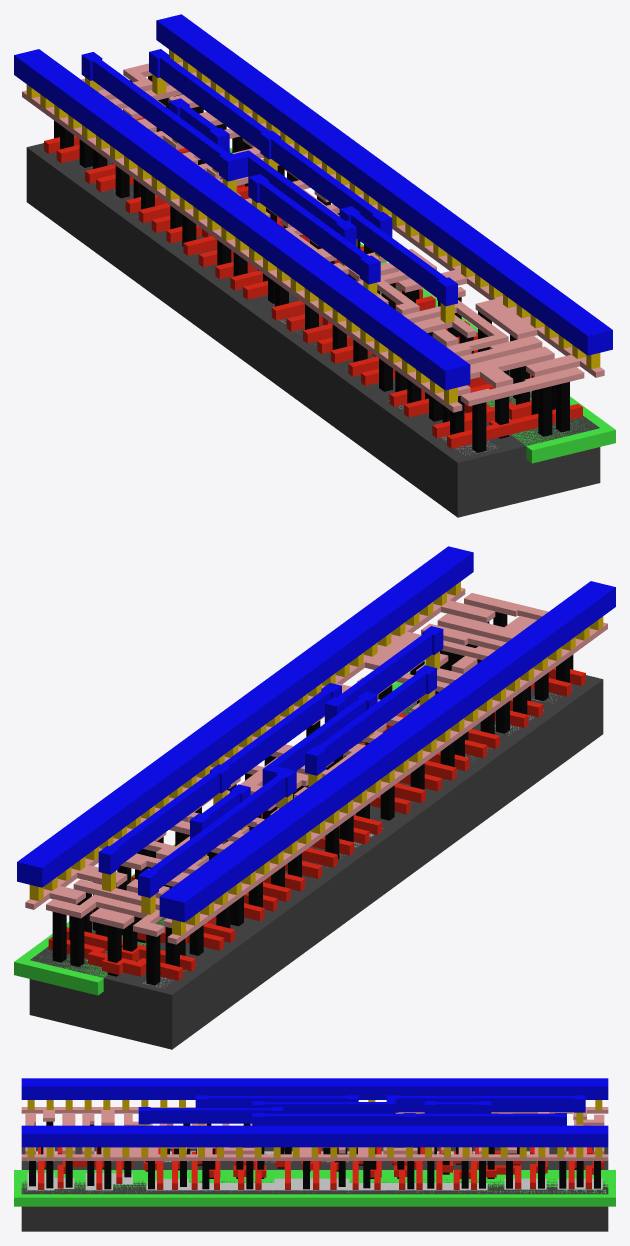
Rendered from sky130_fd_sc_hd__sdfbbn_1.obj.
The picture shows the model from 3 angles, top to bottom: view 1: azimuth 30°, elevation 25°; view 2: azimuth 150°, elevation 25°; view 3: azimuth 270°, elevation 25°; orthographic projection. The views are drawn at different scales.
Parts seen in each view (by area): view 1: metal1, subs, li, poly, licon, mcon, nwell; view 2: metal1, subs, li, licon, poly, mcon, nwell; view 3: metal1, subs, nwell, li, poly, licon, mcon, tap, diff.
Part boxes in pixels (x1=…): metal1: x1=14, y1=14, x2=612, y2=390; subs: x1=26, y1=143, x2=600, y2=517; li: x1=22, y1=61, x2=604, y2=412; poly: x1=44, y1=117, x2=582, y2=448; licon: x1=54, y1=75, x2=569, y2=452; mcon: x1=26, y1=49, x2=600, y2=403; nwell: x1=229, y1=147, x2=615, y2=463; metal1: x1=17, y1=546, x2=615, y2=922; subs: x1=29, y1=675, x2=603, y2=1049; li: x1=25, y1=587, x2=607, y2=944; licon: x1=52, y1=612, x2=573, y2=985; poly: x1=48, y1=661, x2=585, y2=980; mcon: x1=29, y1=581, x2=603, y2=935; nwell: x1=14, y1=660, x2=425, y2=995; metal1: x1=21, y1=1078, x2=608, y2=1147; subs: x1=21, y1=1147, x2=608, y2=1231; nwell: x1=14, y1=1170, x2=615, y2=1206; li: x1=21, y1=1107, x2=608, y2=1160; poly: x1=38, y1=1147, x2=603, y2=1189; licon: x1=29, y1=1121, x2=601, y2=1189; mcon: x1=27, y1=1100, x2=602, y2=1157; tap: x1=27, y1=1173, x2=602, y2=1190; diff: x1=28, y1=1151, x2=568, y2=1162.
Bounding box in the file's own units: 3.2 × 2.74 × 14.64.
